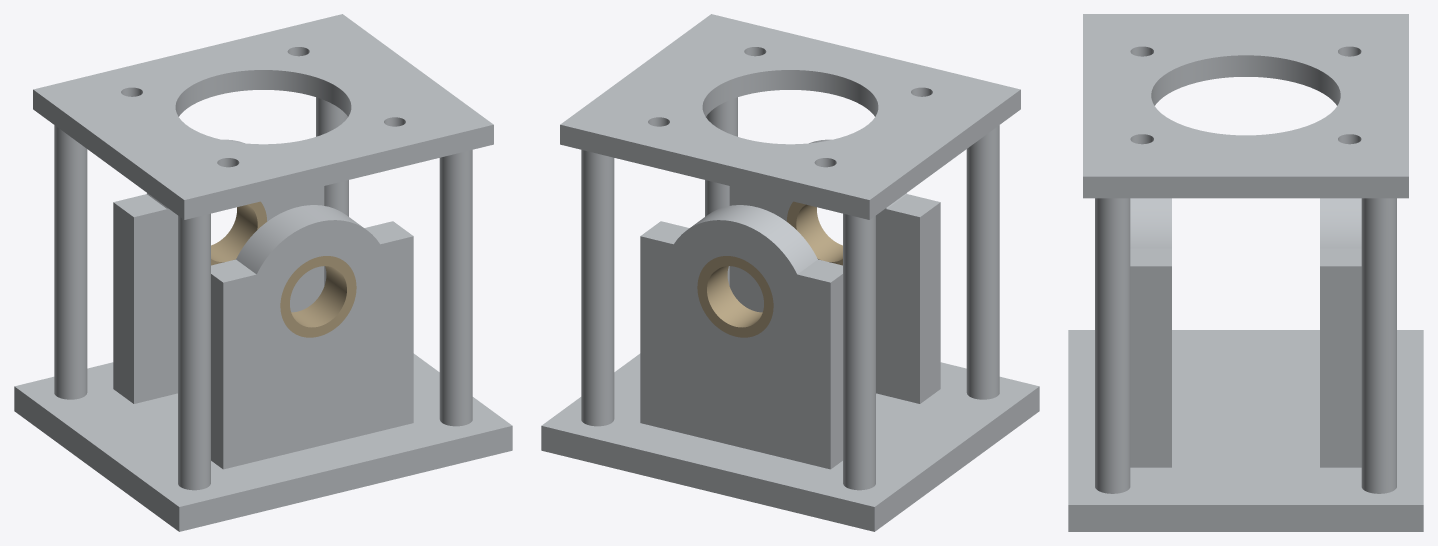
File: step_31.glb
3 renders of one model, left to right at view 1: azimuth 30°, elevation 25°; view 2: azimuth 150°, elevation 25°; view 3: azimuth 270°, elevation 25°, orthographic. The views are drawn at different scales.
Visible parts, largest first — view 1: part__crankcase frame, part__main bush 2, part__main bush 1; view 2: part__crankcase frame, part__main bush 1, part__main bush 2; view 3: part__crankcase frame.
Boxes of the visible parts, x1,y1,x2,y2 form: part__crankcase frame: (14,14,512,531); part__main bush 2: (280,256,356,337); part__main bush 1: (211,201,267,265); part__crankcase frame: (541,14,1039,531); part__main bush 1: (697,256,773,337); part__main bush 2: (786,201,842,265); part__crankcase frame: (1068,14,1423,531).
Size of the model in its own units: 140 by 130 by 120.
